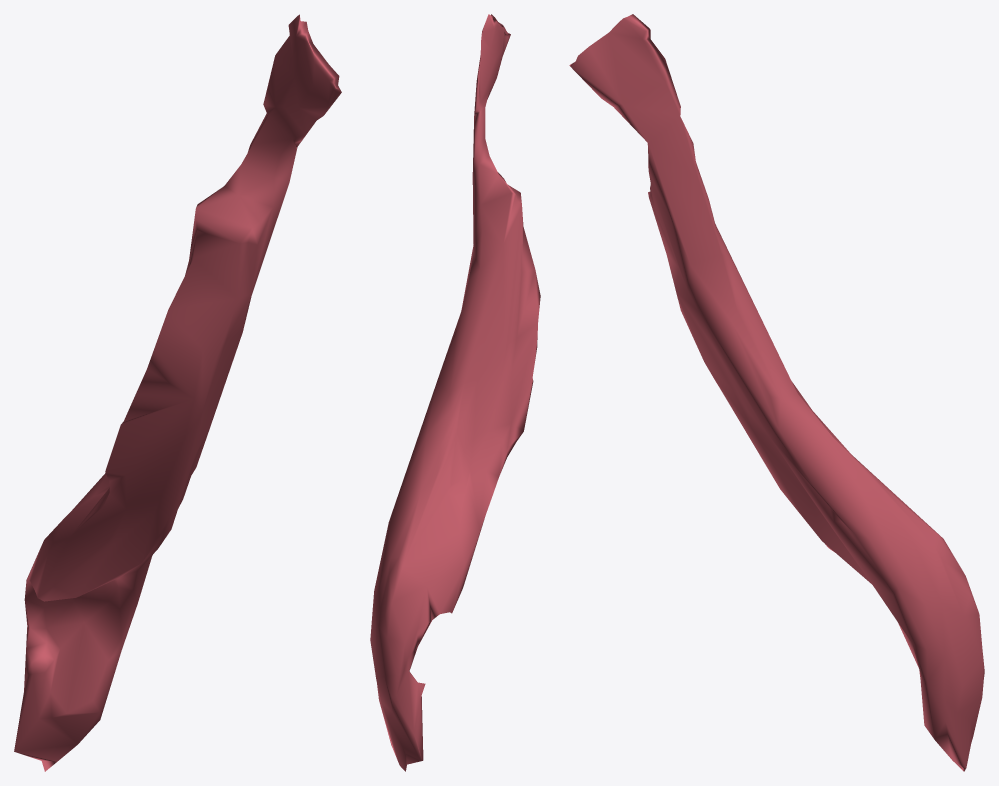
3 views of the same model, side by side, from view 1: azimuth 30°, elevation 25°; view 2: azimuth 150°, elevation 25°; view 3: azimuth 270°, elevation 25° (orthographic). The views are drawn at different scales.
Visible parts, largest first — view 1: 右侧踇短屈肌内侧头; view 2: 右侧踇短屈肌内侧头; view 3: 右侧踇短屈肌内侧头.
Boxes of the visible parts, x1,y1,x2,y2 form: 右侧踇短屈肌内侧头: (14, 14, 341, 771); 右侧踇短屈肌内侧头: (370, 14, 540, 771); 右侧踇短屈肌内侧头: (569, 14, 984, 771).
Bounding box in the file's own units: 0.0191 × 0.1228 × 0.0586.
